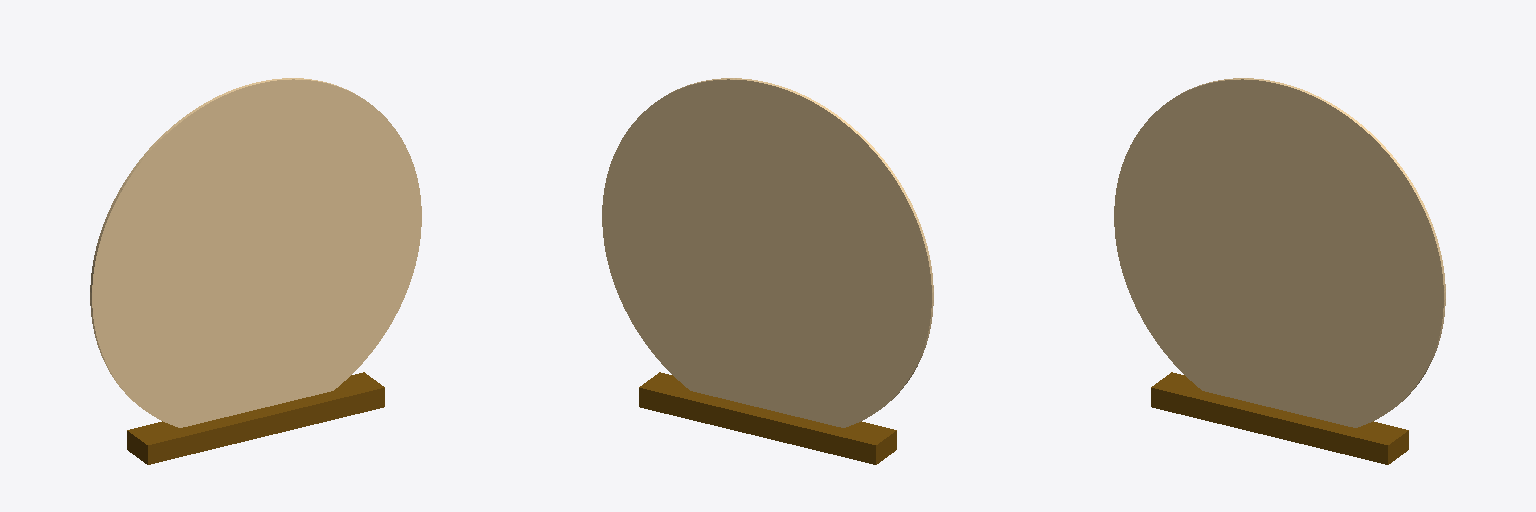
File: IPSC_plate_300.obj
3 renders of one model, left to right at view 1: azimuth 30°, elevation 25°; view 2: azimuth 150°, elevation 25°; view 3: azimuth 330°, elevation 25°, orthographic.
Visible parts, largest first — view 1: _ncl1_2_geometry6.004, _ColladaAutoName__6822_geometry1.004; view 2: _ncl1_2_geometry6.004, _ColladaAutoName__6822_geometry1.004; view 3: _ncl1_2_geometry6.004, _ColladaAutoName__6822_geometry1.004.
Boxes of the visible parts, box(x1,y1,x2,y2) form: _ncl1_2_geometry6.004: box(90, 78, 421, 427); _ColladaAutoName__6822_geometry1.004: box(127, 372, 384, 464); _ncl1_2_geometry6.004: box(602, 78, 933, 427); _ColladaAutoName__6822_geometry1.004: box(639, 372, 896, 464); _ncl1_2_geometry6.004: box(1114, 78, 1445, 427); _ColladaAutoName__6822_geometry1.004: box(1151, 372, 1408, 464).
Size of the model in its own units: 0.003 by 0.003 by 0.0003.